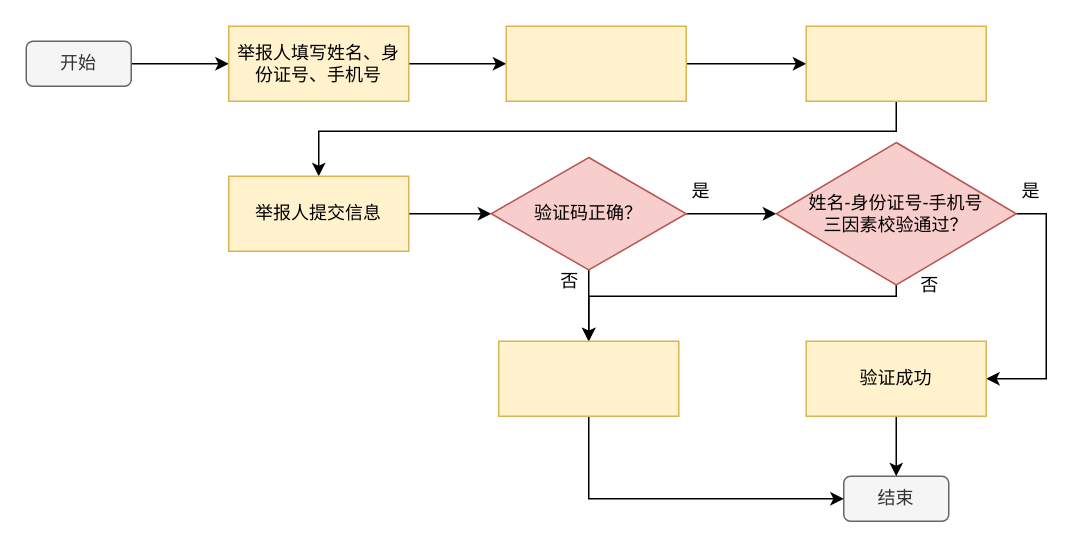
The diagram is 1085 pixels wide and 548 high, and some of its shapes have lost their labels. Here are the shapes that lost their labels. From the top down, the centre of each, then its label:
the point at 595,63: 举报人获取手机号验证码
the point at 895,63: 举报人填写验证码
the point at 588,378: 验证失败
